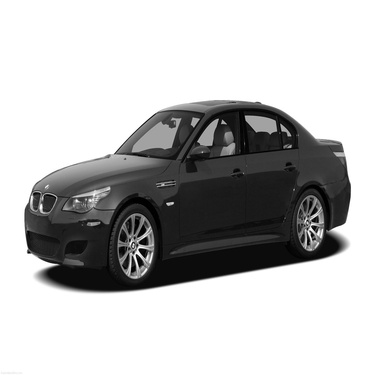car: (14, 90, 357, 302)
